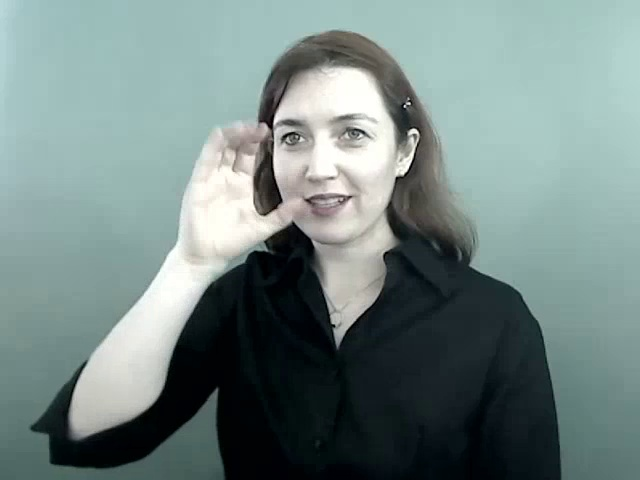drink: (178, 117, 304, 272)
